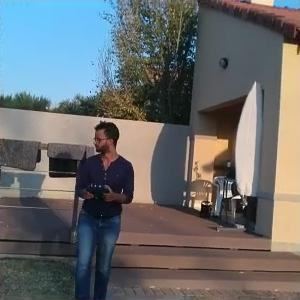follow: (70, 117, 139, 298)
